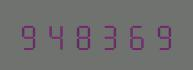eight: (70, 20, 95, 50)
four: (43, 20, 68, 50)
nine: (17, 20, 42, 50), (148, 20, 173, 50)
six: (122, 20, 147, 50)
three: (96, 20, 121, 50)
